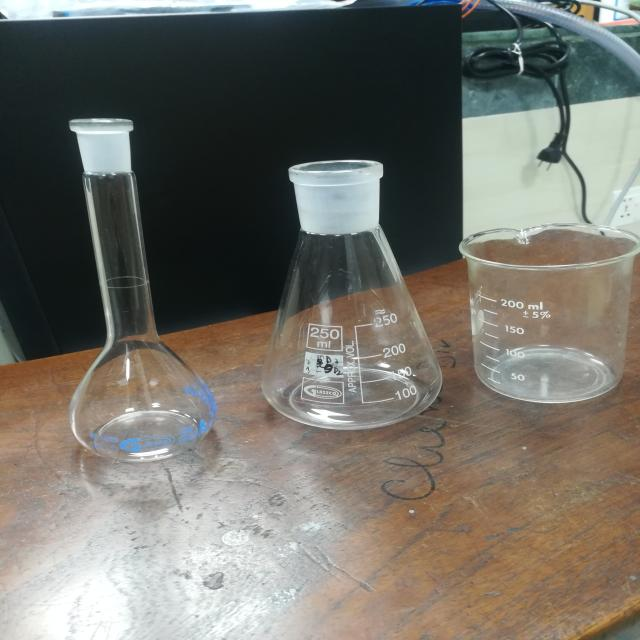Beaker: (447, 221, 640, 414)
Conical_Flask: (245, 138, 456, 438)
Volumetric_Flask: (37, 94, 235, 475)
